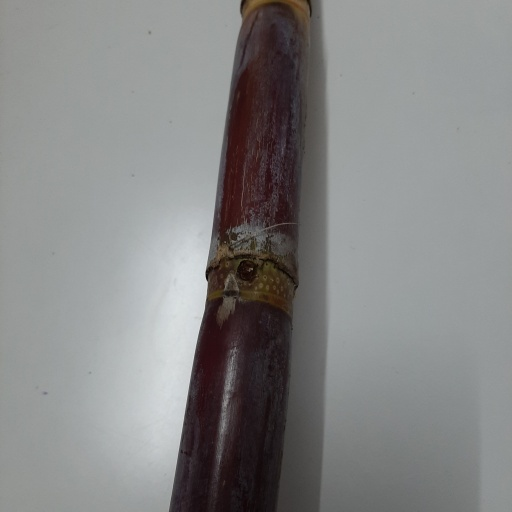Bud: (236, 259, 258, 283)
